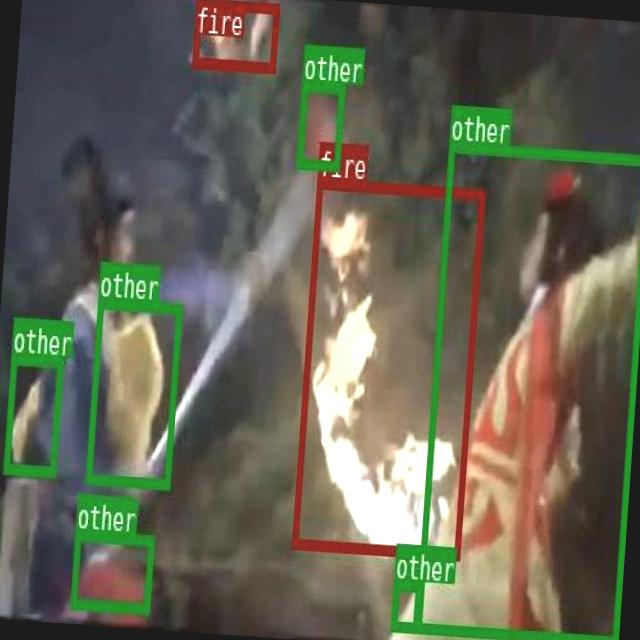fire: (290, 176, 484, 558), (191, 0, 278, 71)
